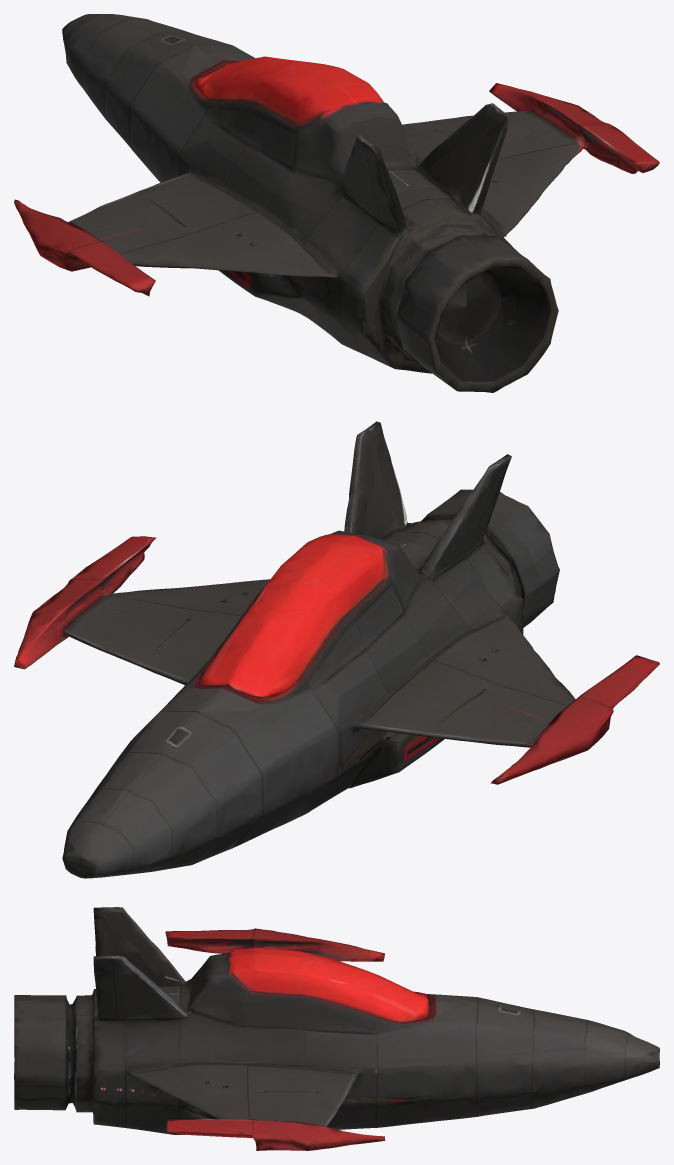
The model's file is Aeon Runner.glb.
The picture shows the model from 3 angles, top to bottom: view 1: azimuth 30°, elevation 25°; view 2: azimuth 150°, elevation 25°; view 3: azimuth 270°, elevation 25°; orthographic projection. The views are drawn at different scales.
Visible parts, largest first — view 1: Mesh1; view 2: Mesh1; view 3: Mesh1.
Part boxes in pixels (x1,y1,x2,y2): Mesh1: (14,14,659,392); Mesh1: (14,421,659,878); Mesh1: (14,907,659,1150).
Bounding box in the file's own units: 1.53 × 0.6729 × 2.
Materials: 1 (1 with a texture image).
